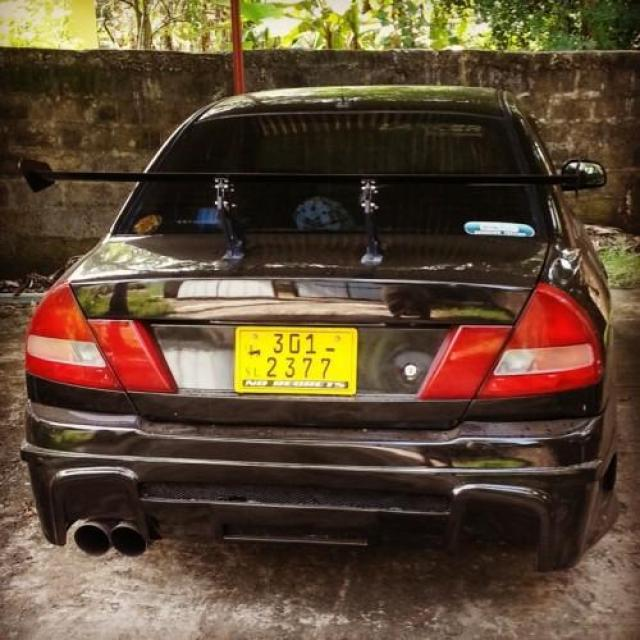license-plate: (234, 325, 356, 391)
